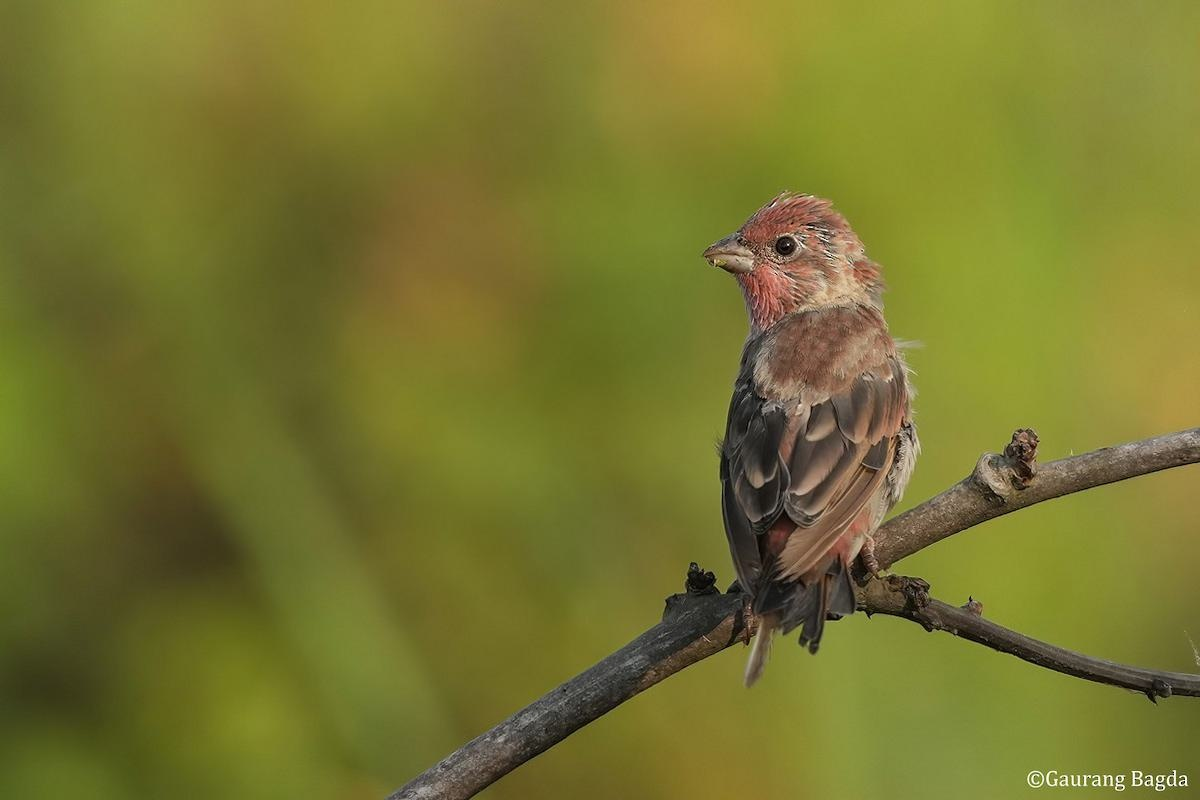rosefinch: (690, 164, 897, 612)
